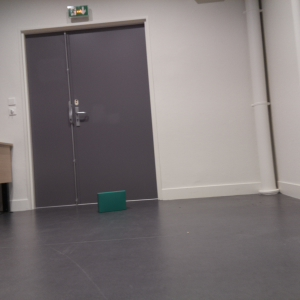small: (98, 190, 128, 214)
